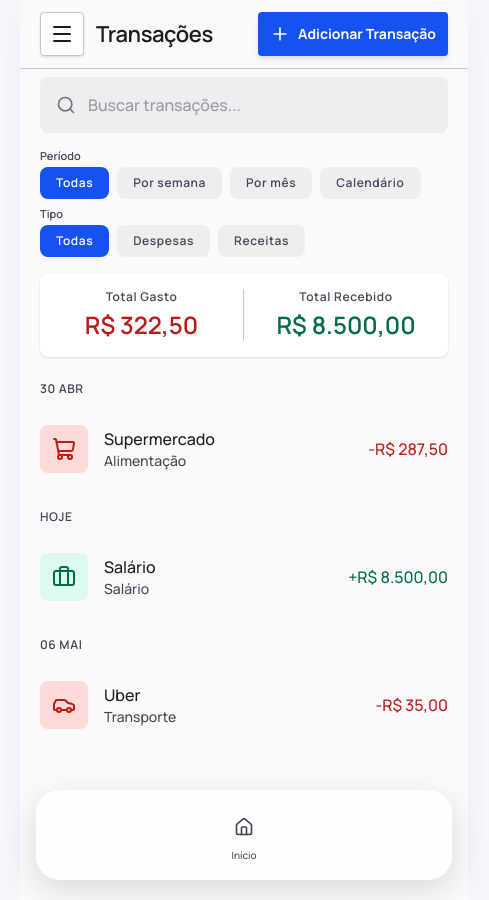
Scenario: TransactionsView › filtra transações por tipo de receita e despesa
Step 1. Click the button "Despesas" → coordinates (164, 241), box [117, 225, 210, 257]
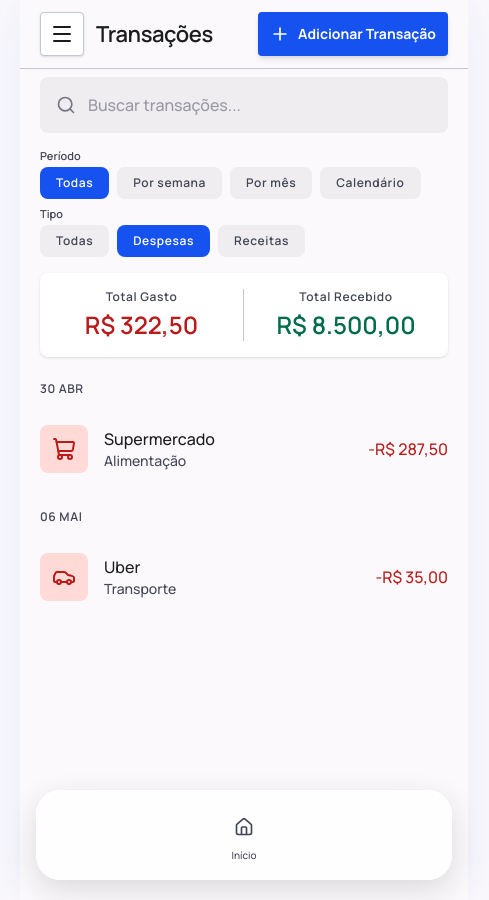
Expected: the text "Supermercado" is shown, [104, 427, 215, 451]
Expected: the button "Salário" is gone
Step 2. Click the button "Receitas" → coordinates (262, 241), box [218, 225, 305, 257]
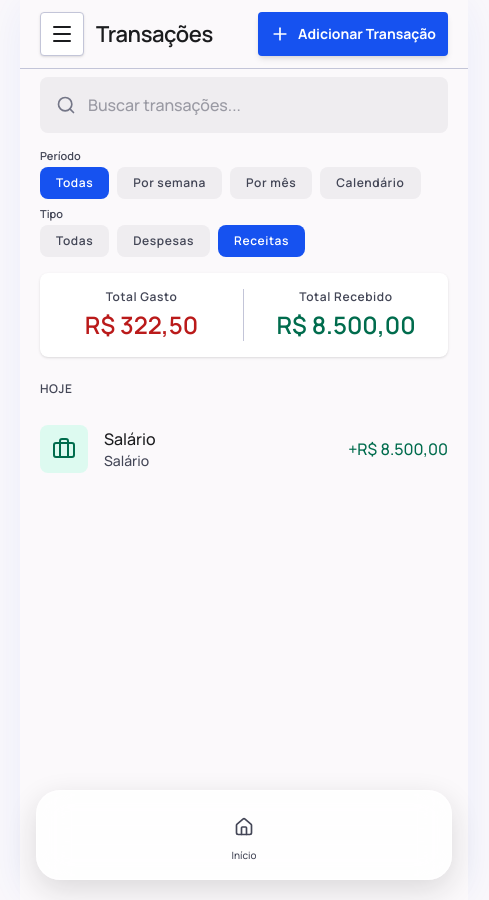
Expected: the button "Supermercado" is gone
Expected: the button "Uber" is gone
